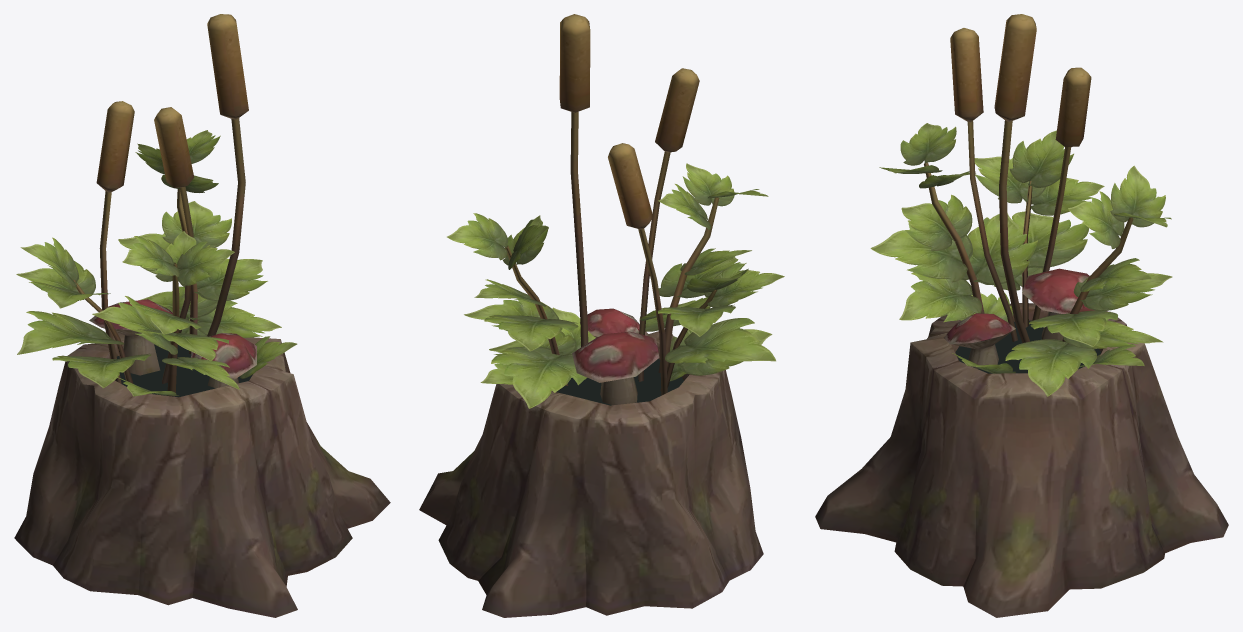
3 views of the same model, side by side, from view 1: azimuth 30°, elevation 25°; view 2: azimuth 150°, elevation 25°; view 3: azimuth 270°, elevation 25° (orthographic).
Size of the model in its own units: 1.23 by 1.69 by 1.2.
Materials: 4 (4 with a texture image).
